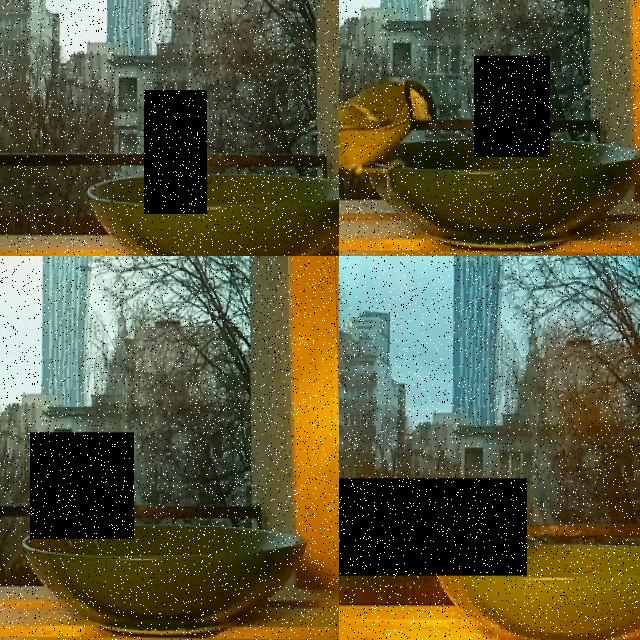Bogatka: (339, 75, 443, 202)
Wrobel: (339, 478, 527, 576), (30, 432, 134, 539), (144, 90, 207, 214), (474, 56, 550, 157)
